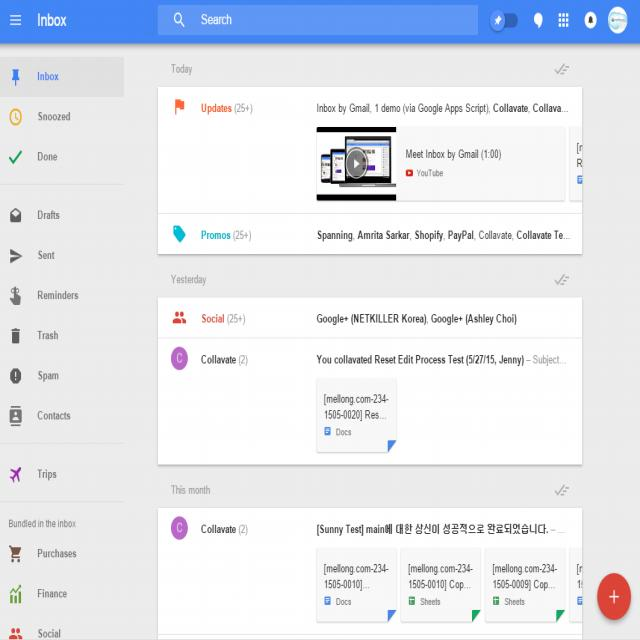button: (158, 508, 582, 640), (158, 88, 583, 213), (158, 339, 582, 464), (317, 125, 565, 201), (158, 298, 582, 338), (158, 215, 582, 254), (316, 548, 397, 622), (401, 548, 481, 622), (316, 379, 397, 452), (486, 548, 564, 622), (0, 136, 123, 177), (0, 236, 125, 276), (0, 394, 124, 434), (0, 315, 123, 355), (0, 56, 123, 96), (0, 276, 125, 315), (0, 96, 124, 135), (0, 196, 124, 235), (0, 356, 124, 393), (0, 576, 121, 611), (0, 458, 124, 491), (1, 536, 122, 569), (0, 618, 122, 640), (597, 573, 631, 620), (32, 7, 75, 34), (570, 127, 583, 202), (570, 548, 582, 622), (490, 10, 520, 34), (608, 7, 628, 34), (6, 8, 26, 33), (554, 8, 573, 34), (581, 8, 600, 34), (171, 515, 188, 541), (171, 346, 188, 371), (530, 9, 548, 32), (170, 9, 188, 31)
field: (158, 5, 478, 36)
